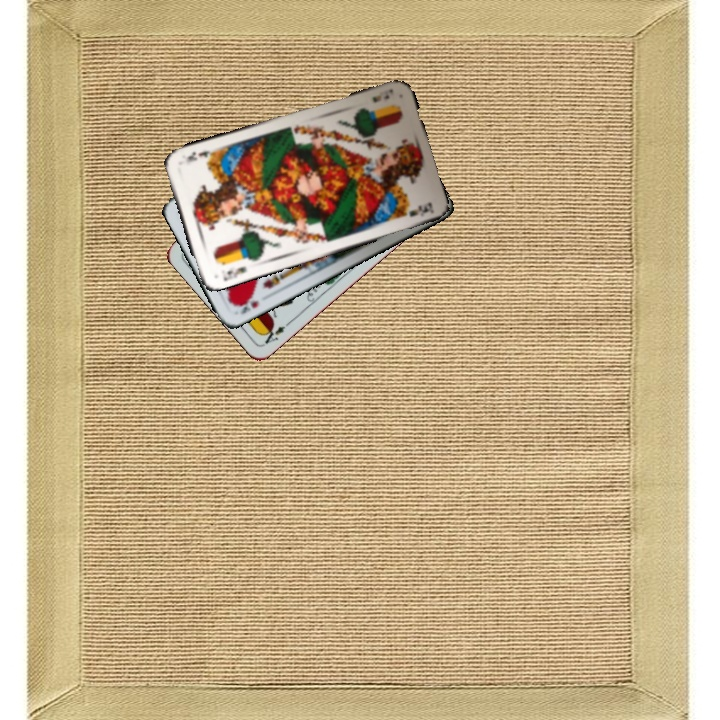EA: (257, 317, 293, 347)
EK: (217, 262, 249, 283), (368, 85, 395, 105)
HK: (230, 292, 261, 317)
